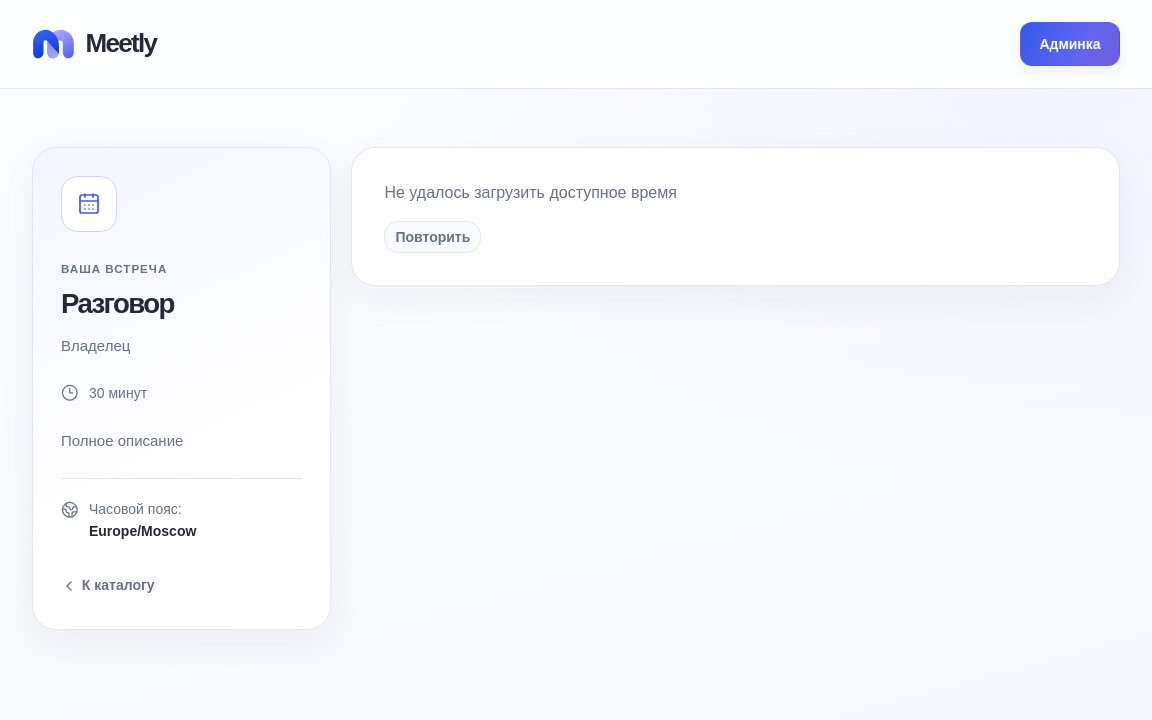
Test: slots retry recovers a transport error and focuses heading
Expected: the text "Не удалось загрузить доступное время" is shown, [384, 184, 677, 201]
Click the button "Повторить" at (433, 237), box [384, 221, 481, 253]
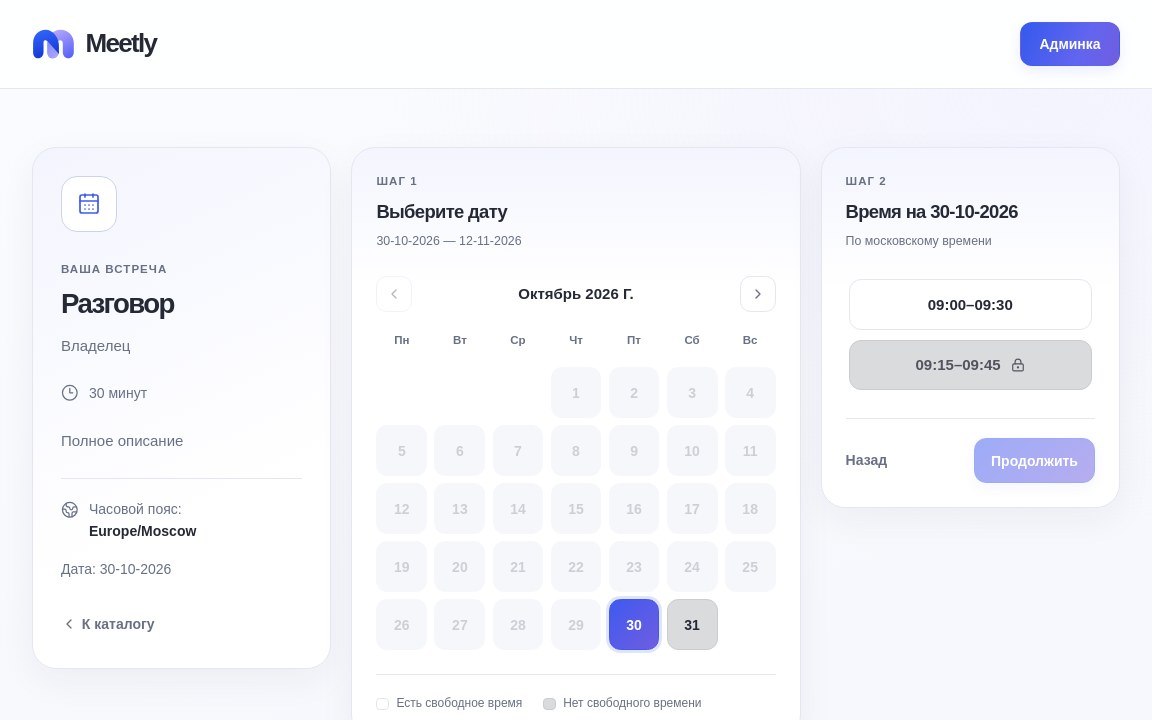
Result: the button named "09:00–09:30 — Свободно" is shown at [849, 279, 1092, 330]
